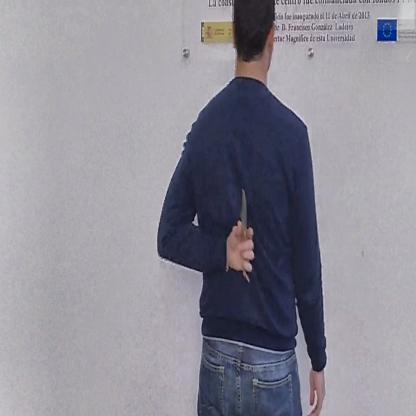knife: (235, 181, 259, 282)
